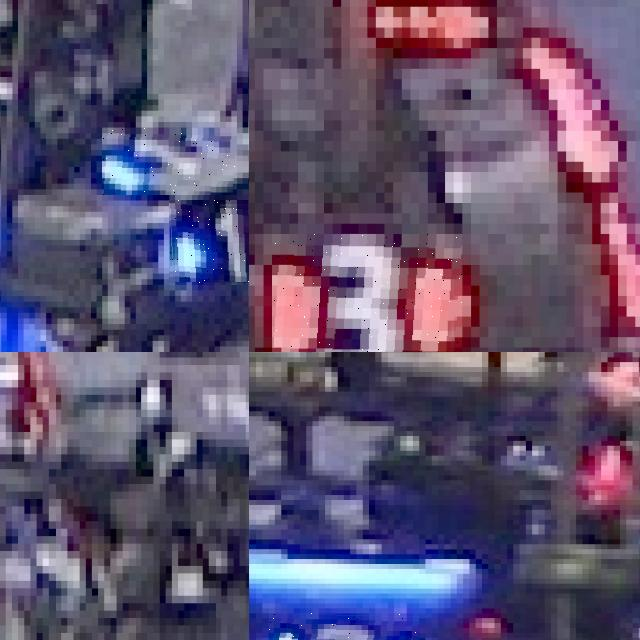B1: (102, 128, 237, 195), (169, 200, 249, 284)
B2: (268, 613, 419, 640)
R3: (271, 233, 462, 352)
